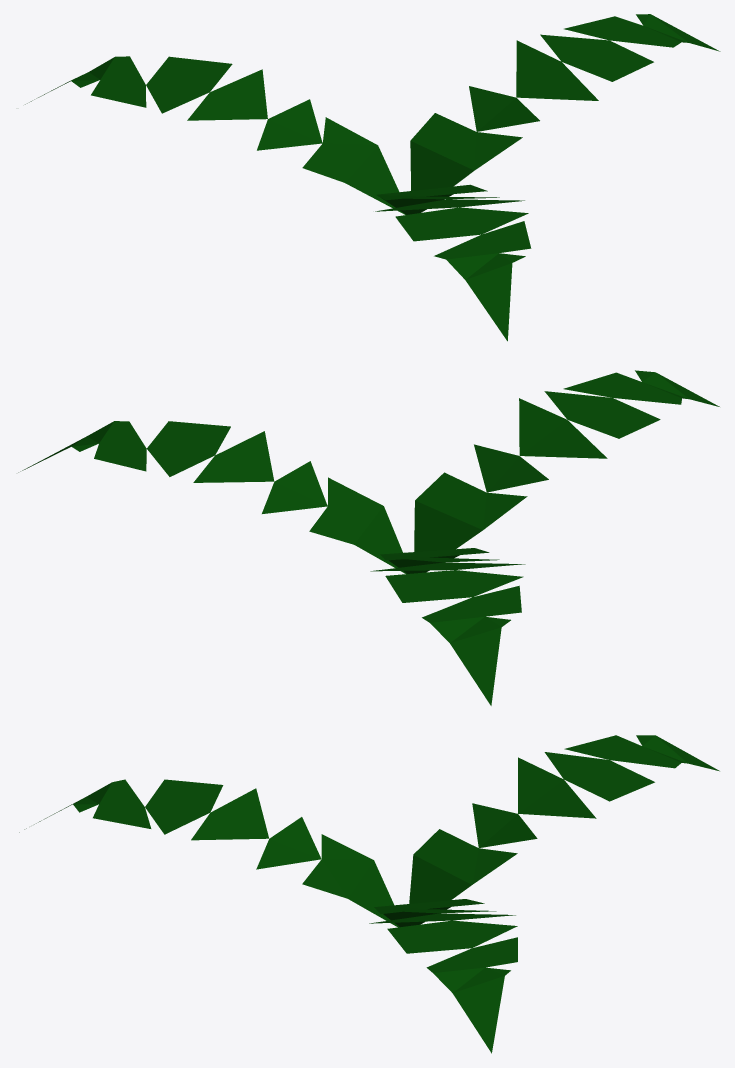
Rendered from jungle fern.obj.
3 views of the same model, one above another, from view 1: azimuth 30°, elevation 25°; view 2: azimuth 150°, elevation 25°; view 3: azimuth 270°, elevation 25° (orthographic). The views are drawn at different scales.
Visible parts, largest first — view 1: jungle fern_back; view 2: jungle fern_back; view 3: jungle fern_back.
Part boxes in pixels (<box>): jungle fern_back: <box>25,14,720,341</box>; jungle fern_back: <box>18,370,719,705</box>; jungle fern_back: <box>19,735,719,1053</box>.
Bounding box in the file's own units: 1.02 × 0.16 × 1.08.
